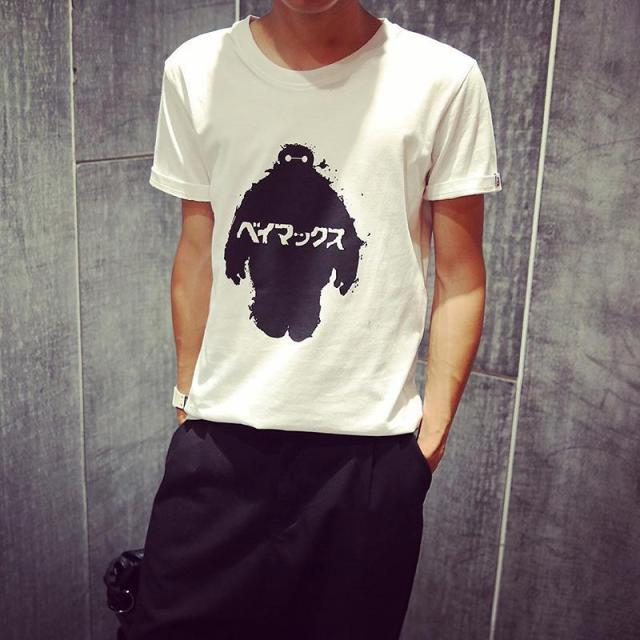short sleeve top: (149, 18, 502, 431)
trousers: (127, 400, 419, 639)
